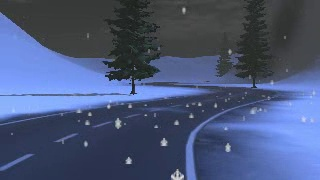Lane: (0, 83, 278, 179)
